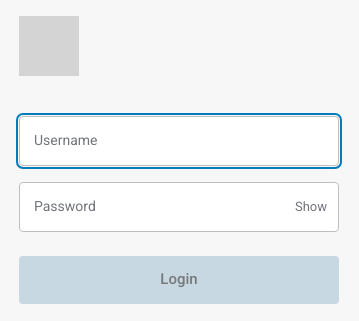
it: E2E: Login Flow › password field toggles visibility
Click the button "Show".
click(311, 207)  # box [295,196,327,218]
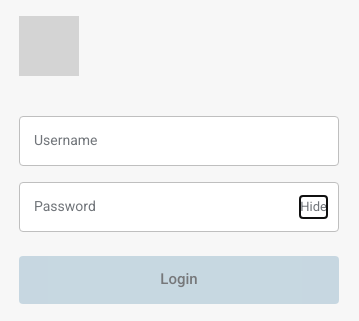
Result: the button "Hide" is shown at [300,196,327,218]
